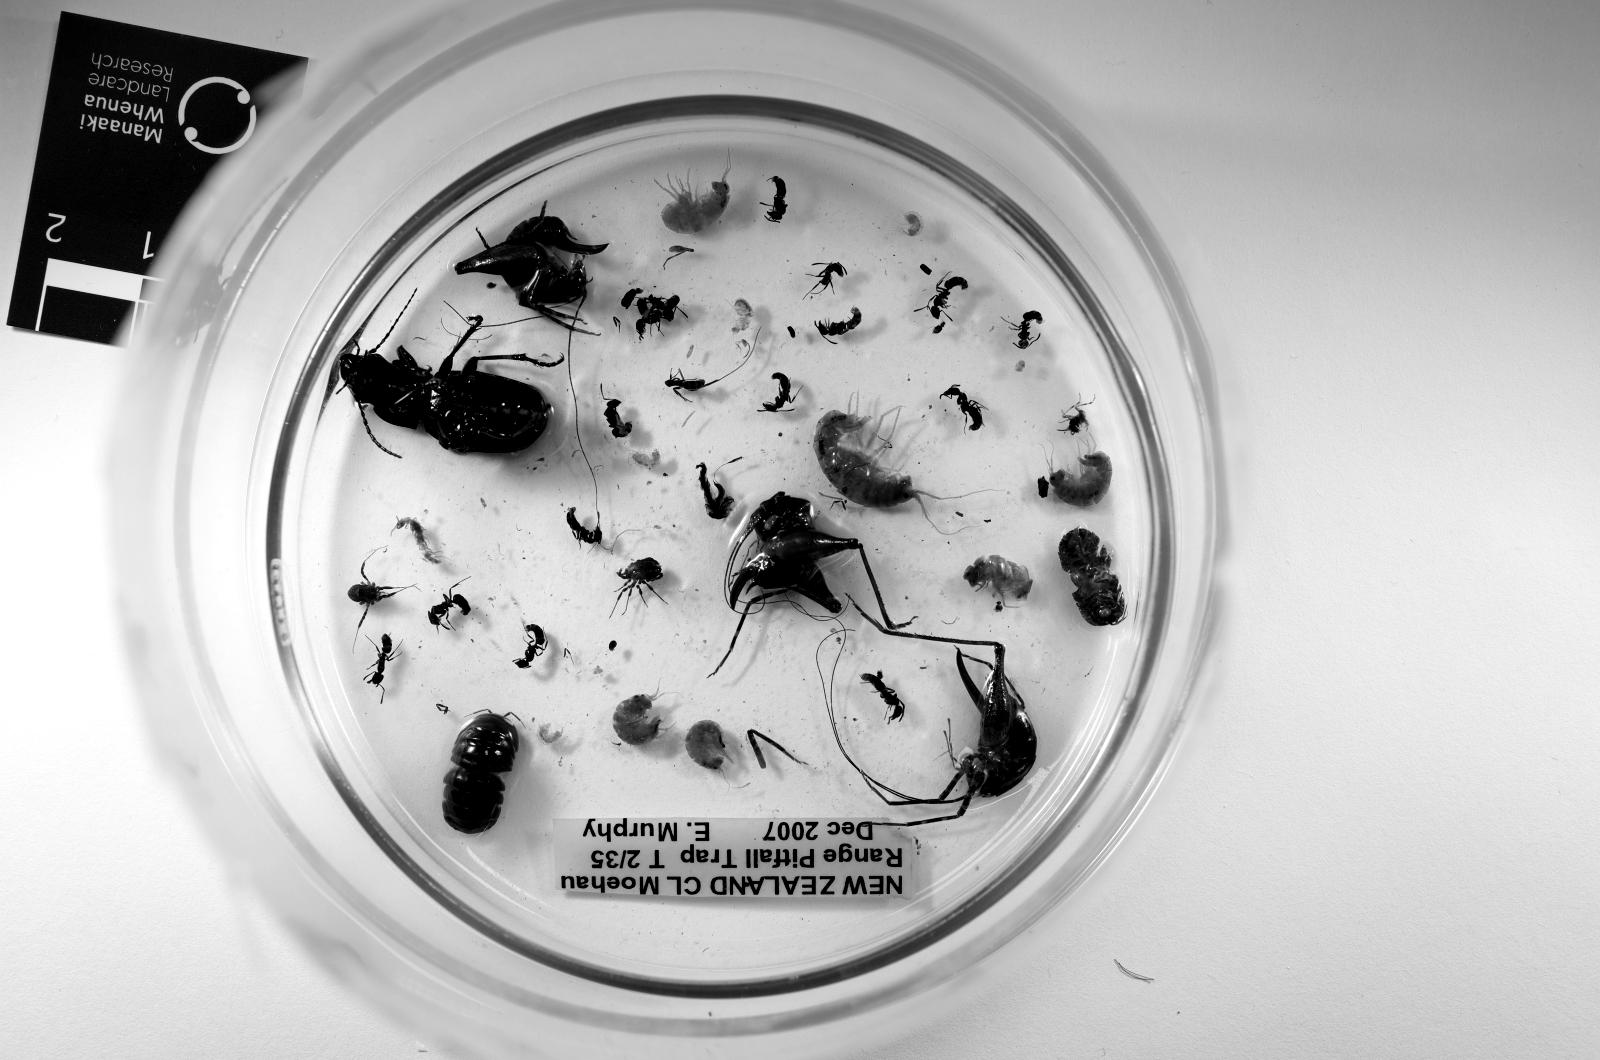amphipoda: (812, 409, 922, 506), (660, 159, 731, 233), (966, 556, 1031, 612), (1050, 453, 1113, 506), (613, 696, 660, 745), (685, 720, 728, 770), (731, 298, 753, 332), (631, 451, 660, 468), (903, 211, 922, 237)
carabidae: (337, 317, 559, 453)
chilopoda: (397, 518, 441, 565)
formicidae: (365, 634, 400, 702), (915, 277, 969, 319), (862, 671, 906, 720), (940, 386, 982, 432), (428, 584, 468, 627), (816, 308, 862, 344), (565, 506, 603, 547), (763, 373, 797, 413), (516, 625, 546, 667), (809, 260, 847, 295), (1010, 310, 1044, 348), (603, 397, 634, 438), (666, 373, 719, 394), (765, 177, 788, 224)
isopoda: (1060, 528, 1125, 627)
opiliones: (346, 562, 407, 618), (618, 558, 662, 602)
orthoptera: (862, 640, 1037, 826), (728, 491, 887, 640), (456, 202, 607, 329)
